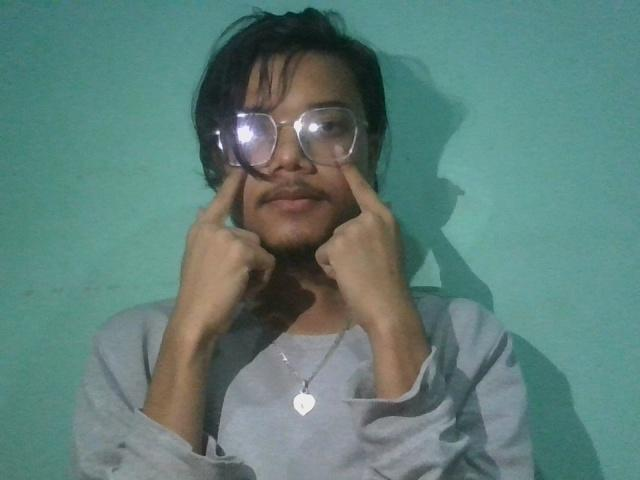Cry: (163, 143, 433, 357)
